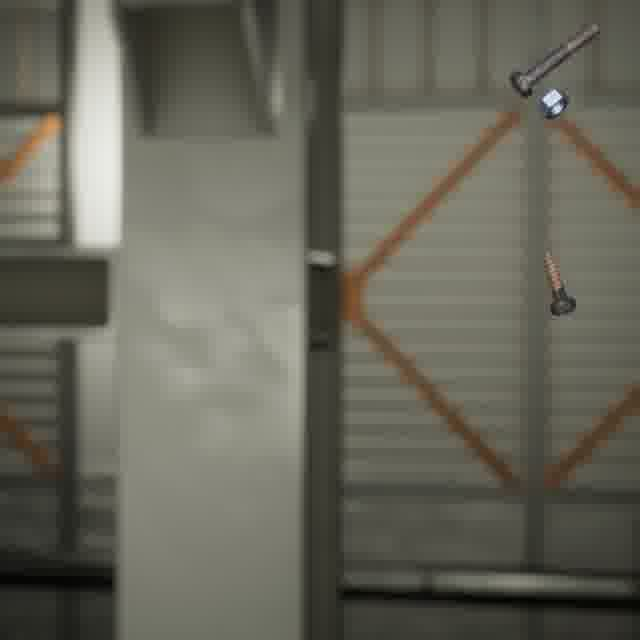bolt: (505, 18, 604, 102), (537, 248, 580, 320)
nut: (532, 84, 573, 123)
